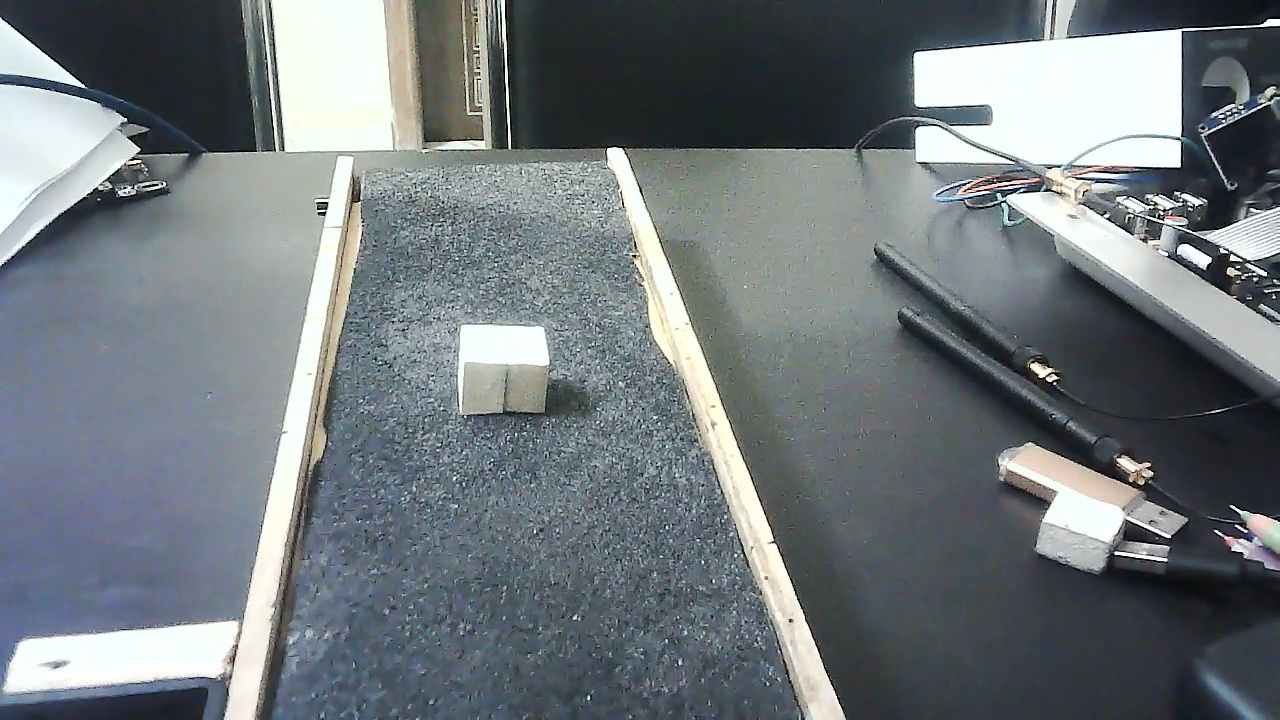Small: (455, 324, 549, 418)
